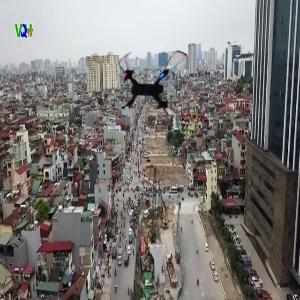drone: (113, 40, 198, 125)
